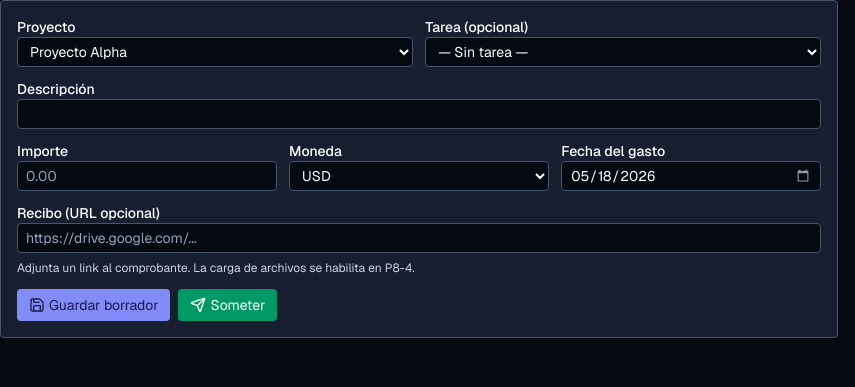
Scenario: ExpenseSubmissionForm › muestra error de servidor si createExpense lanza
Type "X" into the field labelled "Descripción" at x=419, y=114, box [17,99,821,129]
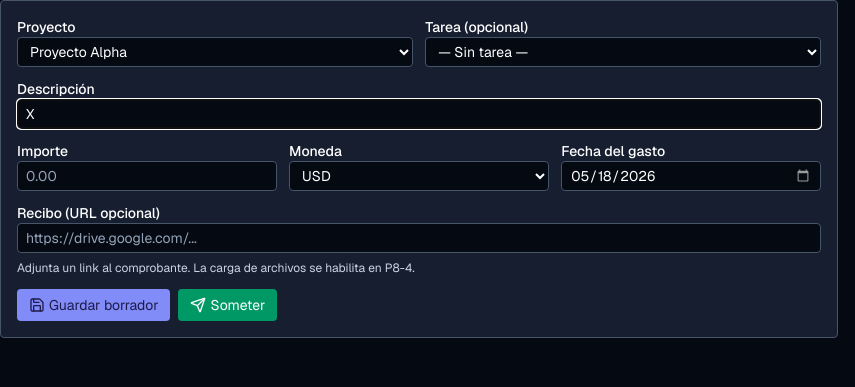
Type "10" into the field with placeholder "0.00" at x=147, y=176, box [17,161,277,191]
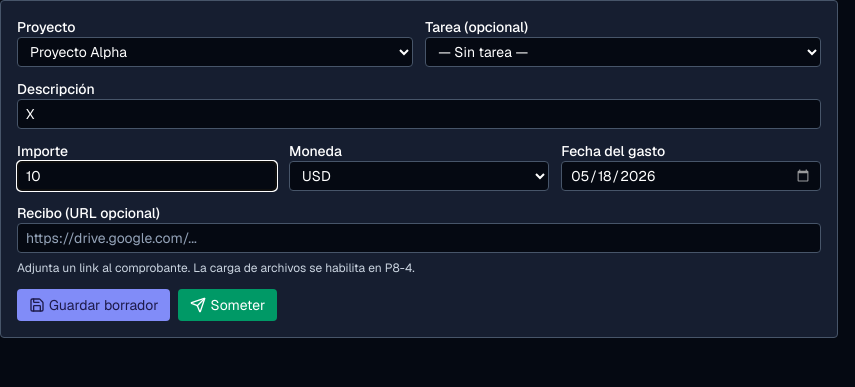
Click the button "Guardar borrador" at x=94, y=305, box [17,289,170,321]
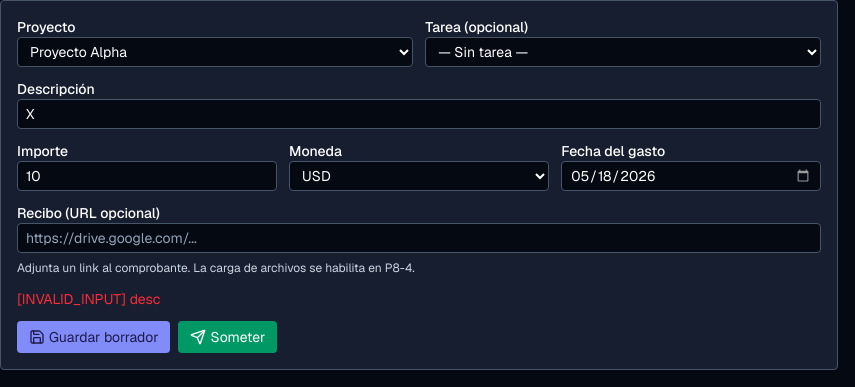
Expected: the message shows "INVALID_INPUT", [17,290,160,308]
